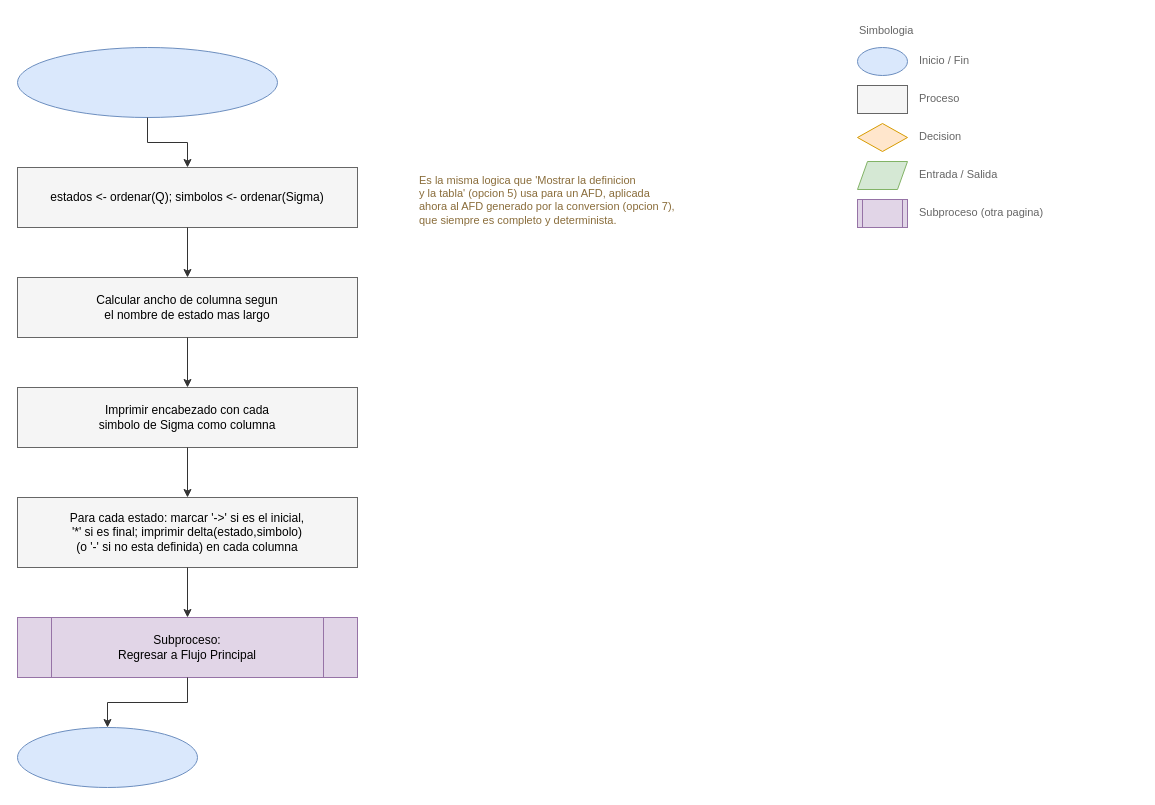
Some shapes in this 1155 by 805 pixel diagram are drawn without their labels. The centre of each missing label's shape, as x and y in pixels:
"Fin" goes at point (107, 757).
"Inicio: Mostrar tabla de transicion del AFD generado" goes at point (147, 82).
